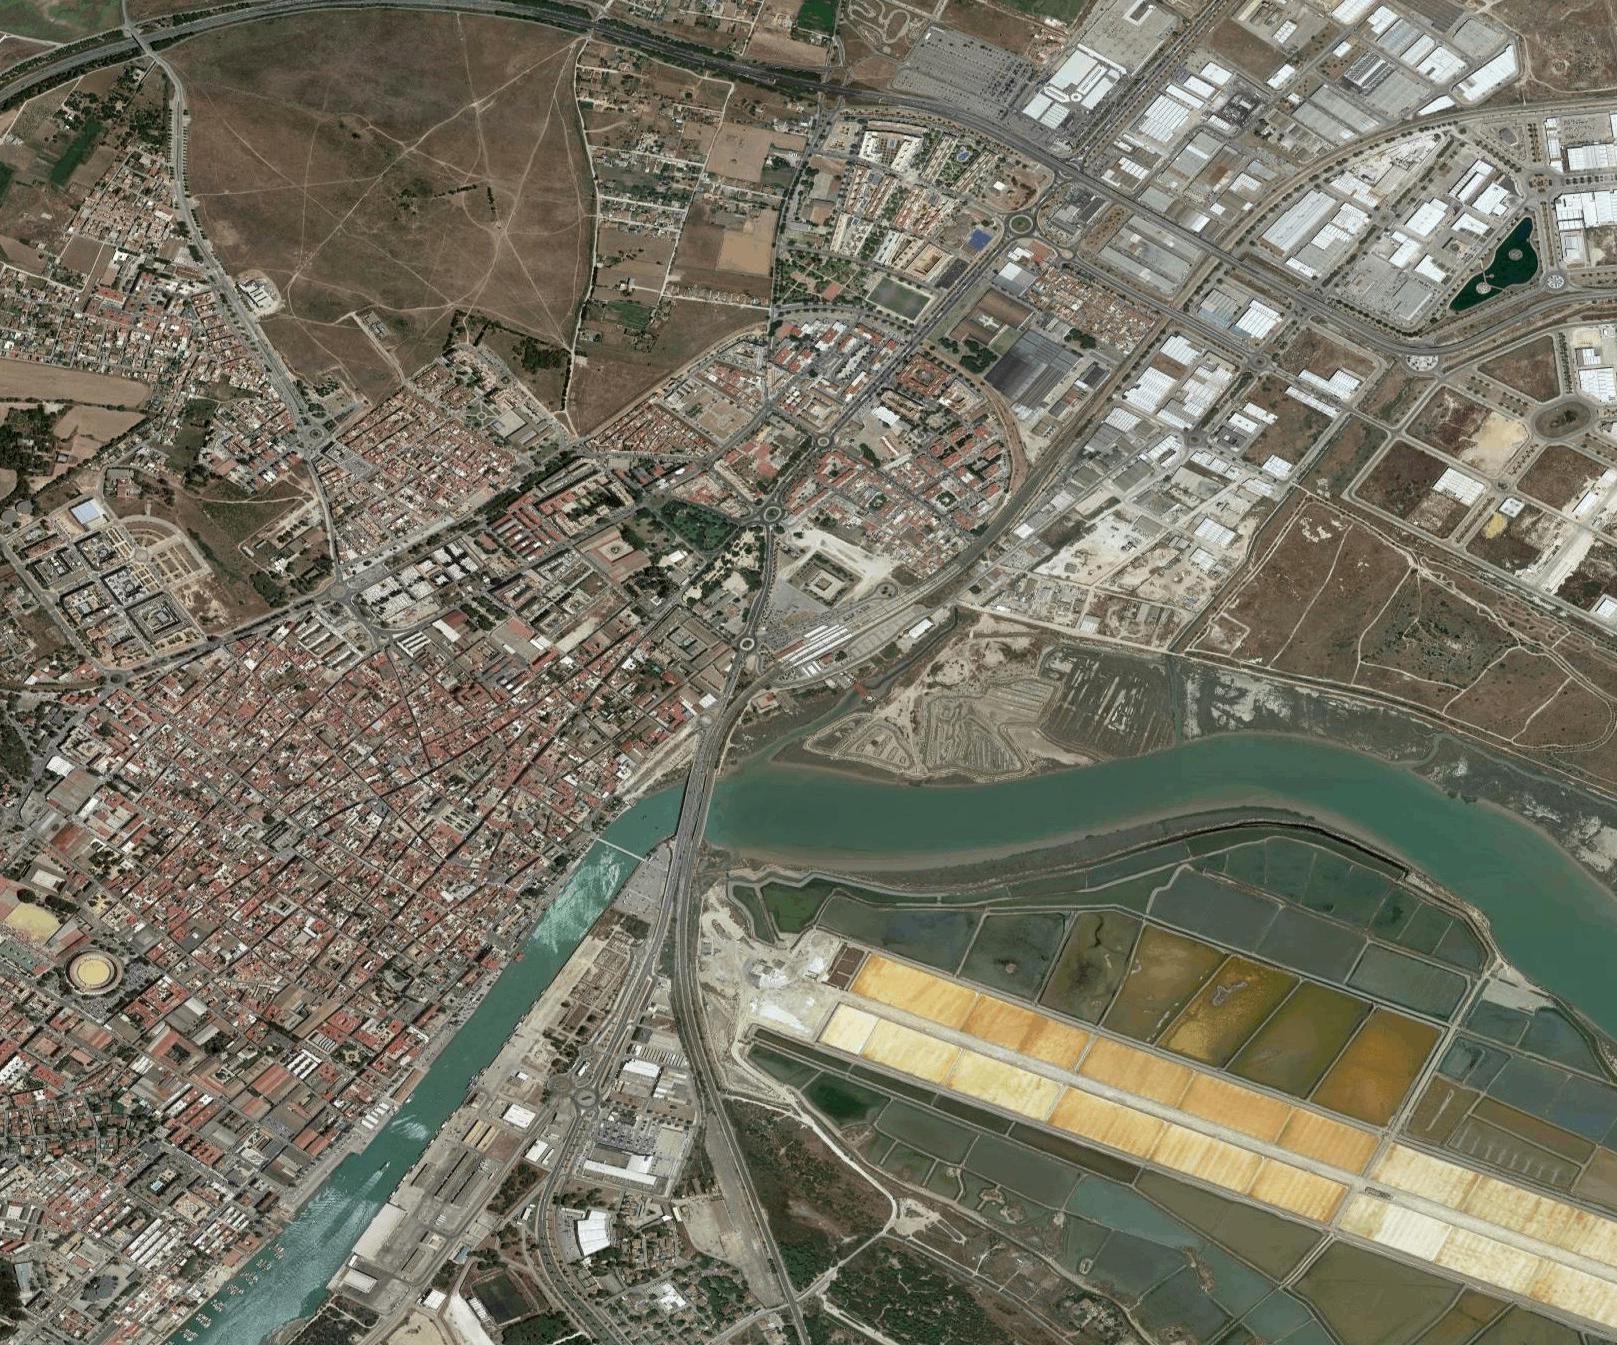industrial: (1076, 35, 1617, 597)
motorway: (590, 13, 904, 113), (921, 442, 1072, 597), (1, 1, 189, 120), (1101, 185, 1289, 293), (191, 1, 588, 50), (907, 94, 1101, 188), (1287, 286, 1452, 378), (1450, 267, 1617, 357), (563, 967, 651, 1134), (669, 683, 749, 855), (672, 1018, 752, 1190), (645, 851, 724, 1021), (739, 1192, 817, 1345), (518, 1125, 600, 1254), (525, 1256, 622, 1345)
train_station: (759, 589, 919, 688)
